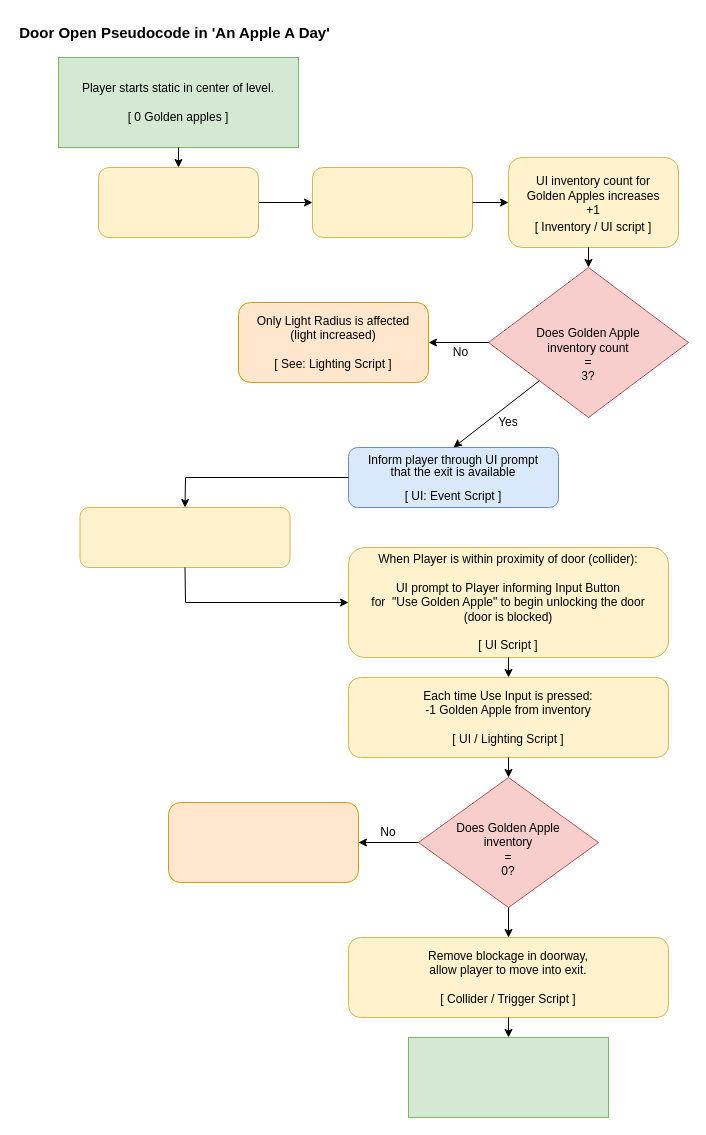
Some shapes in this 706 by 1135 pixel diagram are drawn without their labels. The shapes that lost their labels are listed below. From the top down, each one's centre as x and y in pixels, then its label:
At point 178,202: "Player moves [ Movement Controller script ]".
At point 392,202: "Player finds Golden Apple".
At point 184,537: "Player moves to exit".
At point 263,842: "Only Light Radius is affected (light reduced) [ See: Lighting Script ]".
At point 508,1077: "Once player has moved into exit, end game mode.".
